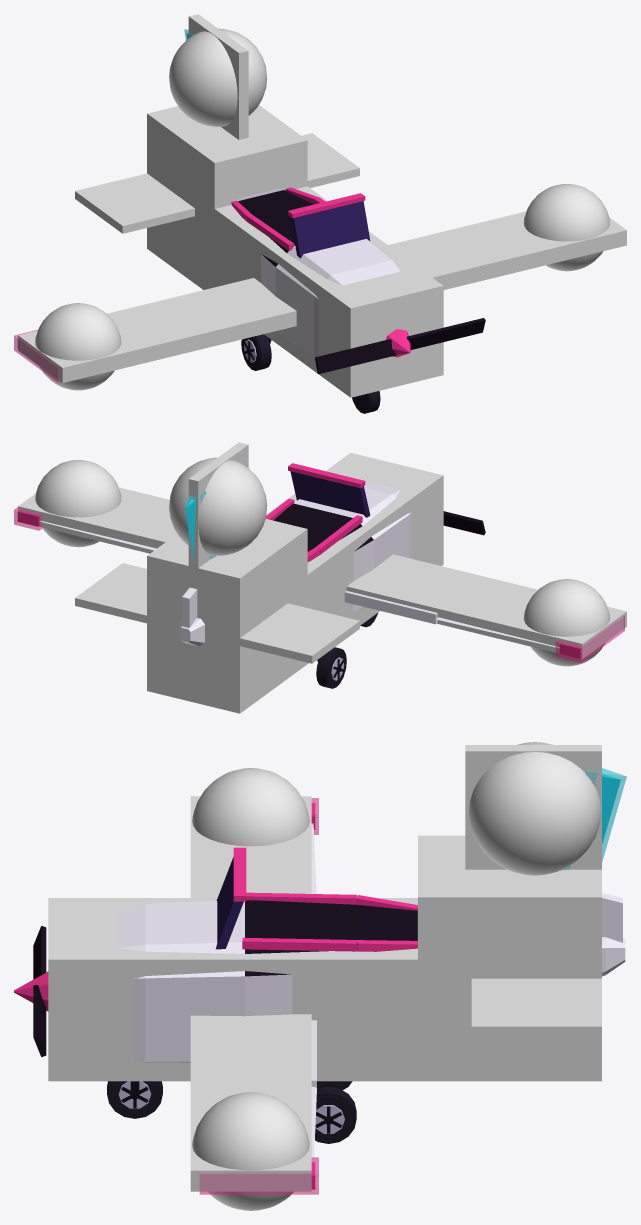
The model's file is airplane.glb.
3 views of the same model, one above another, from view 1: azimuth 30°, elevation 25°; view 2: azimuth 150°, elevation 25°; view 3: azimuth 270°, elevation 25° (orthographic). The views are drawn at different scales.
Visible parts, largest first — view 1: Cube.008, body, Cube.014, Cube.009, Cube.013, Sphere.004, Sphere.002, Sphere.003, Cube.012, rotor, Cube.010, Cube.011 (+1 smaller); view 2: Cube.008, body, Cube.014, Cube.009, Sphere.004, Cube.013, Sphere.002, Sphere.003, Cube.012, Cube.011, Cube.010, wheel_fl.002 (+2 smaller); view 3: Cube.008, body, Cube.009, Cube.013, Sphere.004, Sphere.003, Cube.011, Sphere.002, Cube.014, Cube.010, wheel_fl.001, rotor (+2 smaller).
Part boxes in pixels (box(x1,y1,x2,y2)): Cube.008: box(147, 159, 443, 397); body: box(14, 187, 400, 396); Cube.014: box(18, 278, 296, 382); Cube.009: box(147, 105, 307, 208); Cube.013: box(388, 211, 626, 289); Sphere.004: box(169, 28, 267, 126); Sphere.002: box(35, 303, 121, 390); Sphere.003: box(523, 184, 609, 271); Cube.012: box(75, 173, 194, 233); rotor: box(315, 318, 485, 373); Cube.010: box(188, 14, 248, 139); Cube.011: box(301, 133, 359, 187); Cube.008: box(147, 453, 443, 713); body: box(14, 463, 624, 662); Cube.014: box(346, 554, 626, 658); Cube.009: box(147, 519, 307, 624); Sphere.004: box(169, 457, 267, 555); Cube.013: box(18, 487, 176, 553); Sphere.002: box(523, 579, 609, 666); Sphere.003: box(35, 460, 121, 547); Cube.012: box(240, 603, 359, 663); Cube.011: box(75, 563, 146, 623); Cube.010: box(188, 442, 248, 568); wheel_fl.002: box(316, 647, 346, 688); Cube.008: box(48, 898, 601, 1081); body: box(117, 798, 625, 1194); Cube.009: box(418, 835, 601, 959); Cube.013: box(190, 1014, 311, 1191); Sphere.004: box(469, 742, 600, 875); Sphere.003: box(192, 1092, 309, 1210); Cube.011: box(471, 978, 601, 1037); Sphere.002: box(192, 768, 309, 846); Cube.014: box(190, 796, 311, 897); Cube.010: box(465, 745, 601, 869); wheel_fl.001: box(315, 1086, 356, 1143); rotor: box(14, 926, 48, 1056).
Size of the model in its own units: 3.58 by 1.63 by 2.47.
Materials: 3 (3 with a texture image).
